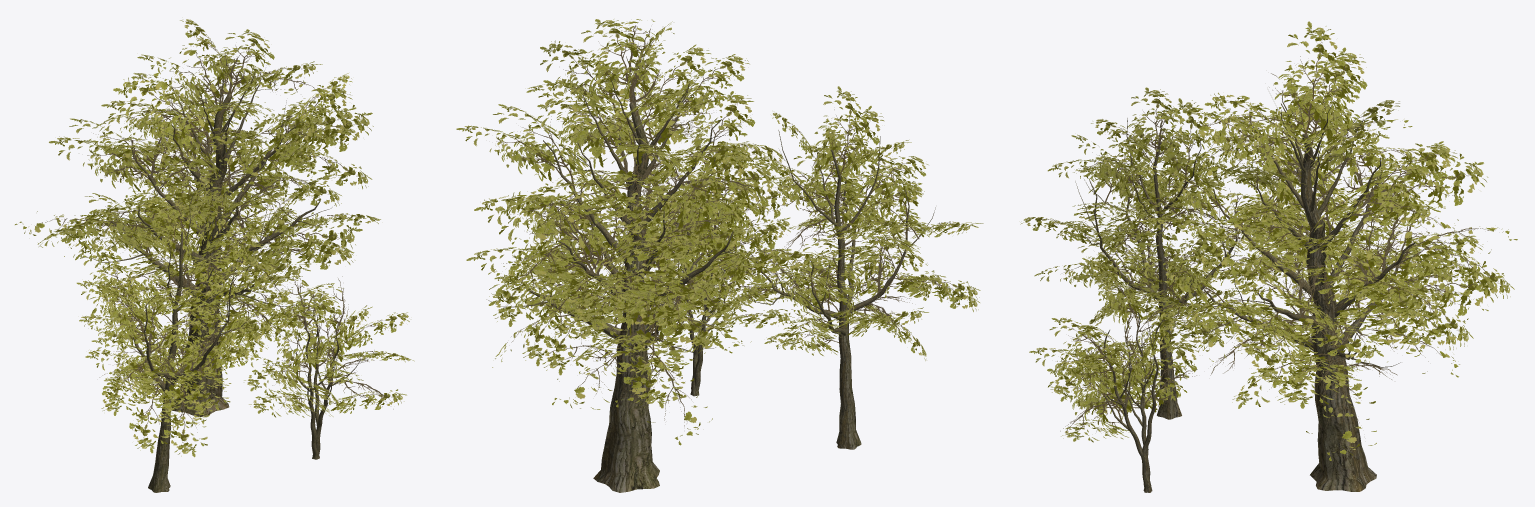
The model's file is oaks.glb.
The picture shows the model from 3 angles, left to right: view 1: azimuth 30°, elevation 25°; view 2: azimuth 150°, elevation 25°; view 3: azimuth 270°, elevation 25°; orthographic projection. The views are drawn at different scales.
Visible parts, largest first — view 1: leafplanes_2_196_0_leaf1_0, Treesmall_bark1_0; view 2: leafplanes_2_196_0_leaf1_0, Treesmall_bark1_0; view 3: leafplanes_2_196_0_leaf1_0, Treesmall_bark1_0.
Part boxes in pixels (box(x1,y1,x2,y2)): leafplanes_2_196_0_leaf1_0: box(15, 19, 414, 457); Treesmall_bark1_0: box(80, 53, 374, 492); leafplanes_2_196_0_leaf1_0: box(456, 19, 983, 445); Treesmall_bark1_0: box(486, 56, 935, 492); leafplanes_2_196_0_leaf1_0: box(1020, 21, 1517, 460); Treesmall_bark1_0: box(1075, 87, 1436, 492).
Size of the model in its own units: 1.97 by 2.04 by 2.08.
Materials: 2 (2 with a texture image).
